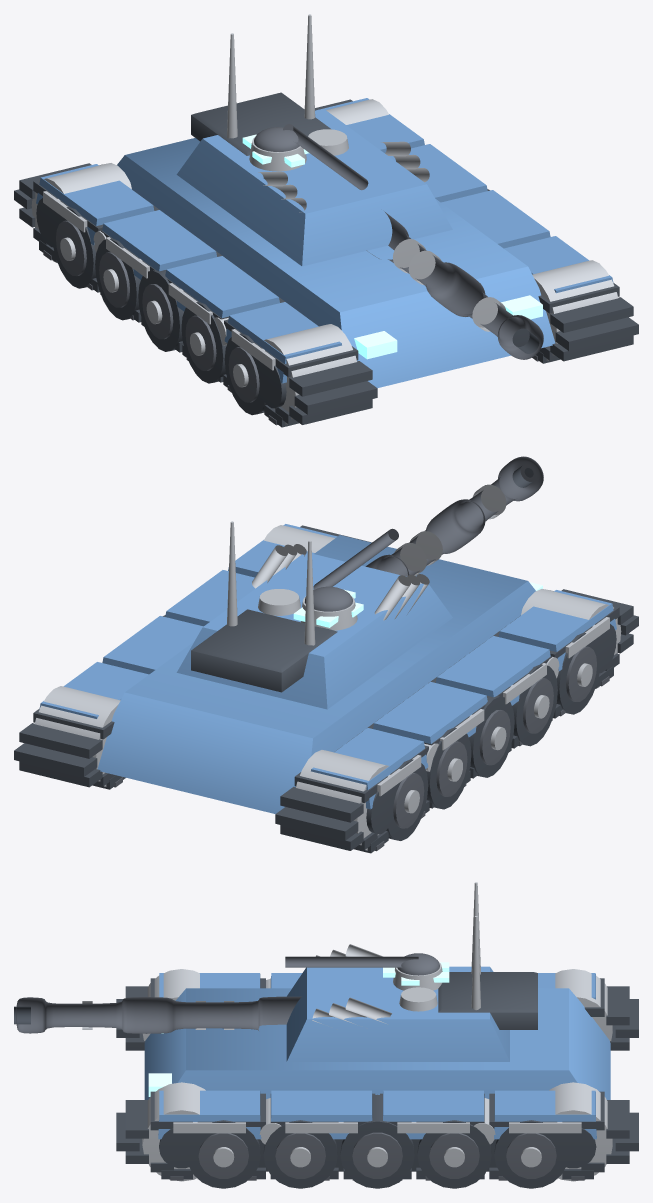
File: id_2tnk.glb
3 views of the same model, one above another, from view 1: azimuth 30°, elevation 25°; view 2: azimuth 150°, elevation 25°; view 3: azimuth 270°, elevation 25° (orthographic). The views are drawn at different scales.
Parts seen in each view (by area): view 1: Hull, Turret; view 2: Hull, Turret; view 3: Hull, Turret.
Boxes of the visible parts, bbox=[...] form: Hull: bbox=[14, 98, 638, 427]; Turret: bbox=[125, 14, 543, 359]; Hull: bbox=[14, 524, 638, 853]; Turret: bbox=[125, 456, 543, 738]; Hull: bbox=[116, 969, 638, 1188]; Turret: bbox=[14, 882, 568, 1070].
Size of the model in its own units: 2.06 by 1.38 by 3.6.
